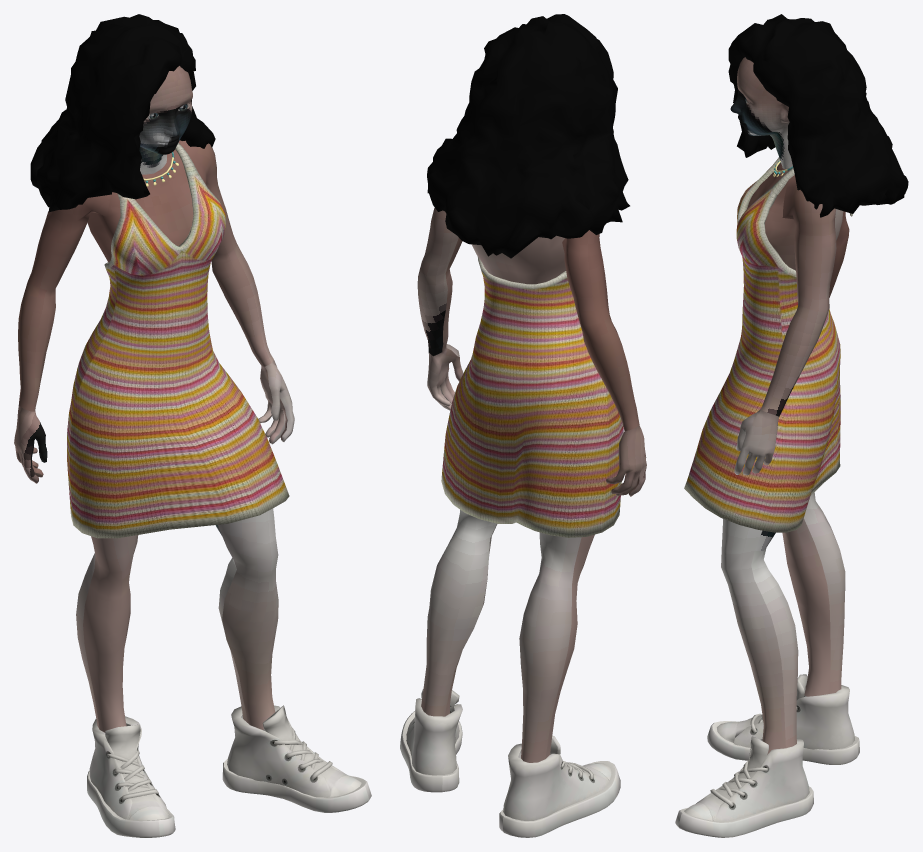
Rendered from NPC vestido 2.fbx.
The picture shows the model from 3 angles, left to right: view 1: azimuth 30°, elevation 25°; view 2: azimuth 150°, elevation 25°; view 3: azimuth 270°, elevation 25°; orthographic projection. The views are drawn at different scales.
Visible parts, largest first — view 1: Wolf3D_Outfit_Top.001, Wolf3D_Body.001, Wolf3D_Hair.001, Wolf3D_Outfit_Footwear.001, Wolf3D_Head.001; view 2: Wolf3D_Outfit_Top.001, Wolf3D_Hair.001, Wolf3D_Body.001, Wolf3D_Outfit_Footwear.001; view 3: Wolf3D_Body.001, Wolf3D_Outfit_Top.001, Wolf3D_Hair.001, Wolf3D_Outfit_Footwear.001, Wolf3D_Head.001.
Part boxes in pixels (x1,y1,x2,y2): Wolf3D_Outfit_Top.001: (67, 143, 289, 538); Wolf3D_Body.001: (14, 140, 294, 732); Wolf3D_Hair.001: (30, 14, 215, 212); Wolf3D_Outfit_Footwear.001: (87, 705, 371, 837); Wolf3D_Head.001: (139, 66, 192, 174); Wolf3D_Outfit_Top.001: (441, 256, 623, 537); Wolf3D_Hair.001: (427, 14, 629, 258); Wolf3D_Body.001: (417, 208, 646, 762); Wolf3D_Outfit_Footwear.001: (400, 689, 620, 837); Wolf3D_Body.001: (721, 162, 849, 754); Wolf3D_Outfit_Top.001: (684, 157, 852, 532); Wolf3D_Hair.001: (728, 14, 908, 217); Wolf3D_Outfit_Footwear.001: (675, 674, 859, 837); Wolf3D_Head.001: (730, 57, 792, 168).
Size of the model in its own units: 68.43 by 177 by 50.63.
7 materials, 6 textured.
